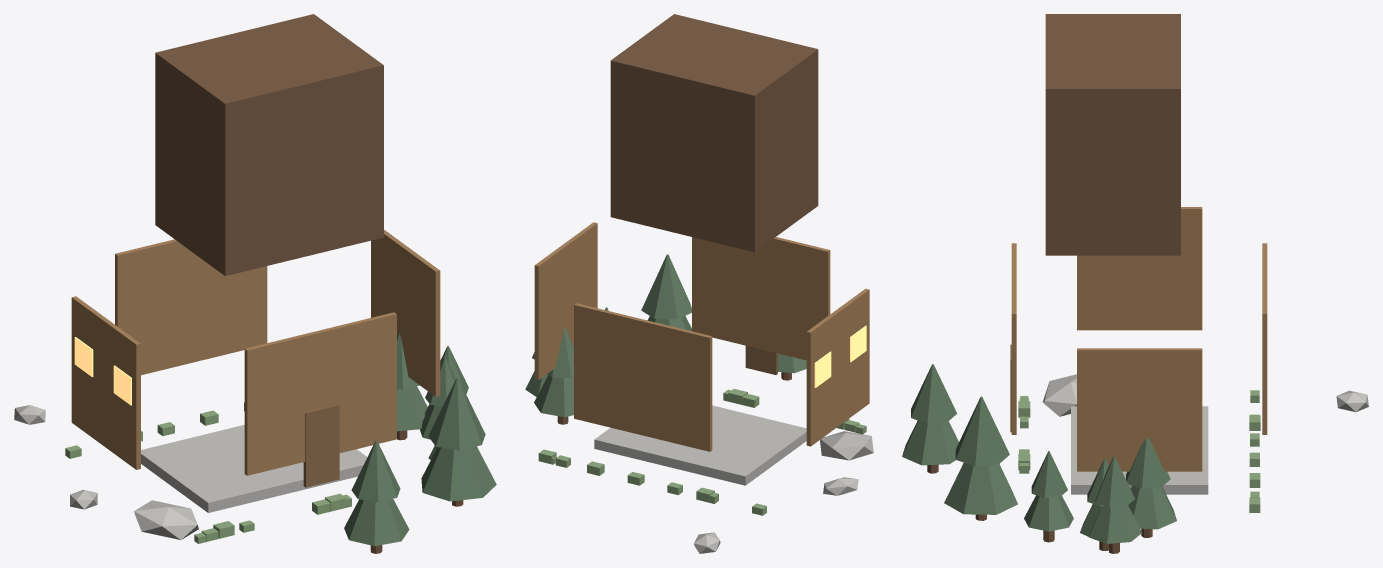
Rendered from maison_003_v2.glb.
The picture shows the model from 3 angles, left to right: view 1: azimuth 30°, elevation 25°; view 2: azimuth 150°, elevation 25°; view 3: azimuth 270°, elevation 25°; orthographic projection. The views are drawn at different scales.
Visible parts, largest first — view 1: maison; view 2: maison; view 3: maison.
Boxes of the visible parts, x1,y1,x2,y2 form: maison: (14, 14, 496, 553); maison: (525, 14, 873, 553); maison: (902, 14, 1368, 553).
Bounding box in the file's own units: 5.1 × 5.5 × 5.59.
